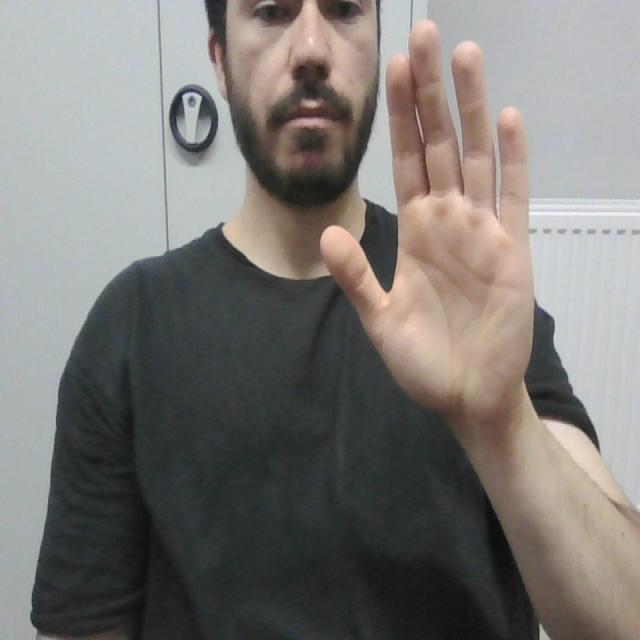Dur: (319, 6, 554, 419)
